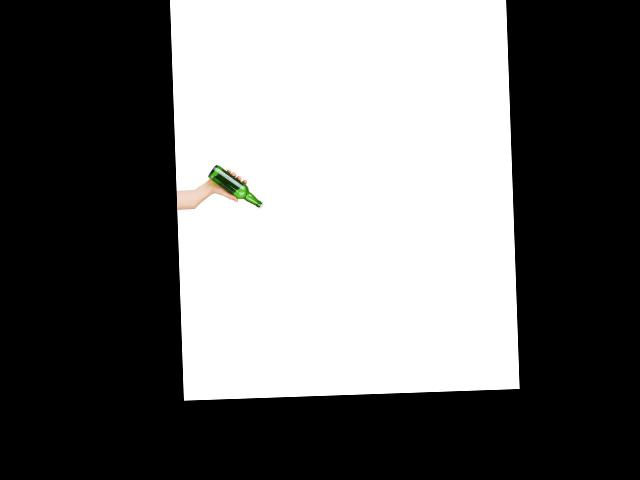beer: (206, 164, 262, 210)
